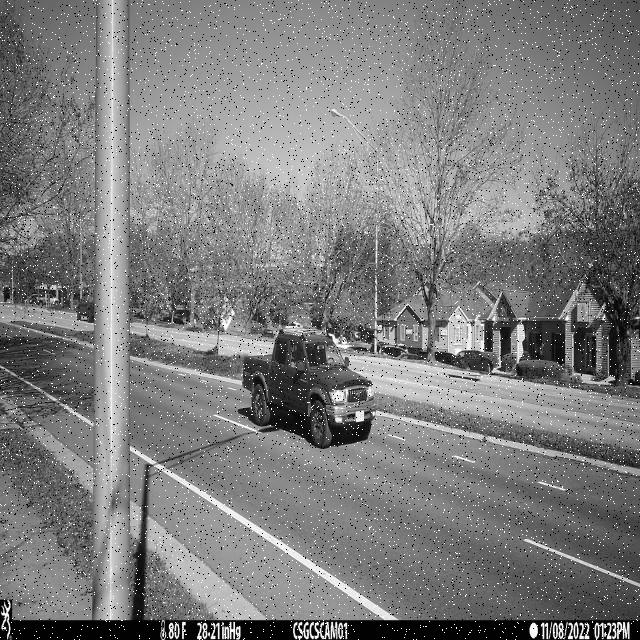Pickup: (242, 326, 377, 449)
